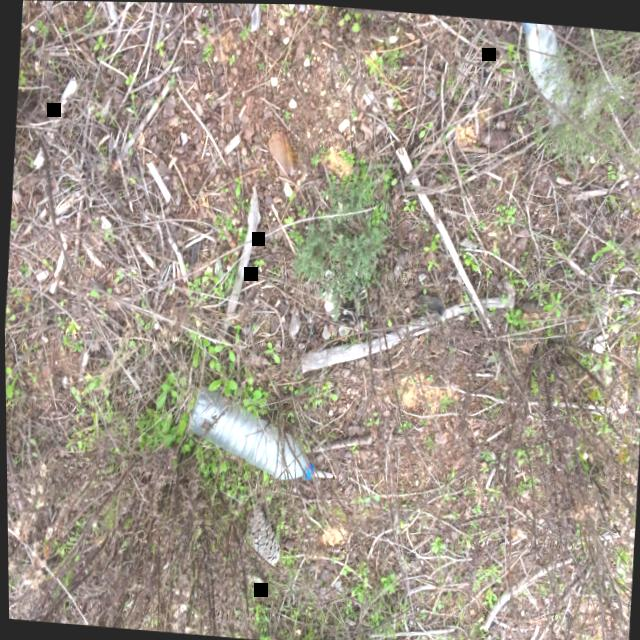Clear plastic bottle: (185, 384, 311, 478), (519, 19, 572, 104)
